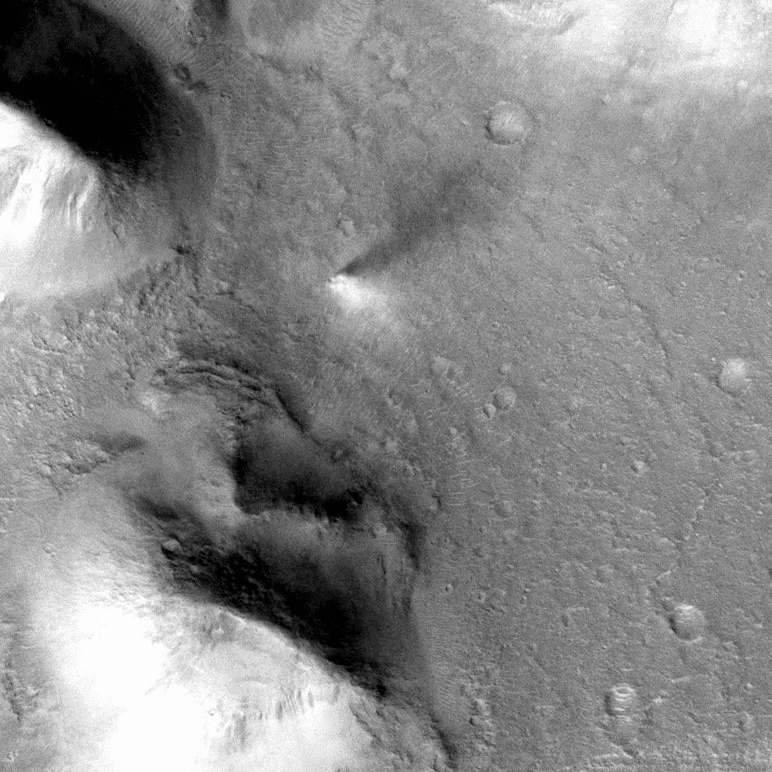dust_devil: (322, 207, 454, 321)
